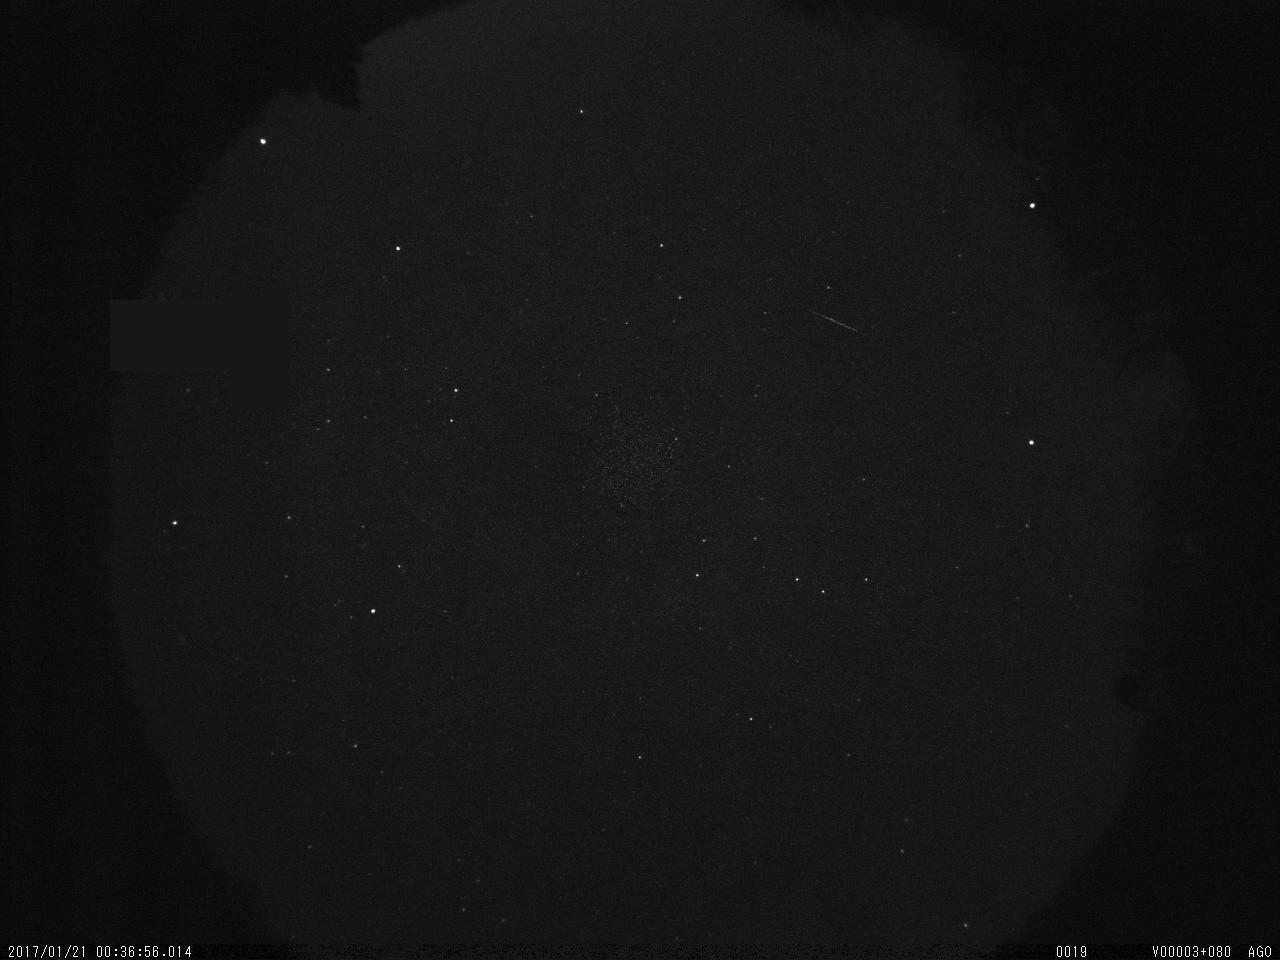Meteor: (804, 296, 867, 343)
